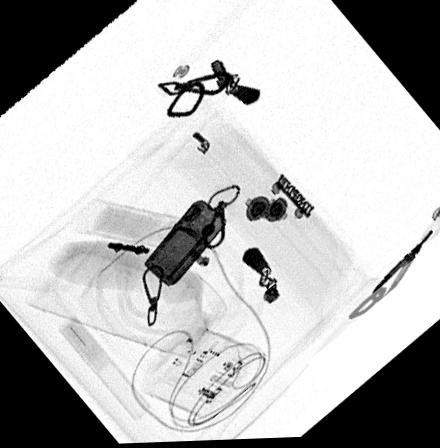Lighter: (142, 200, 224, 286)
